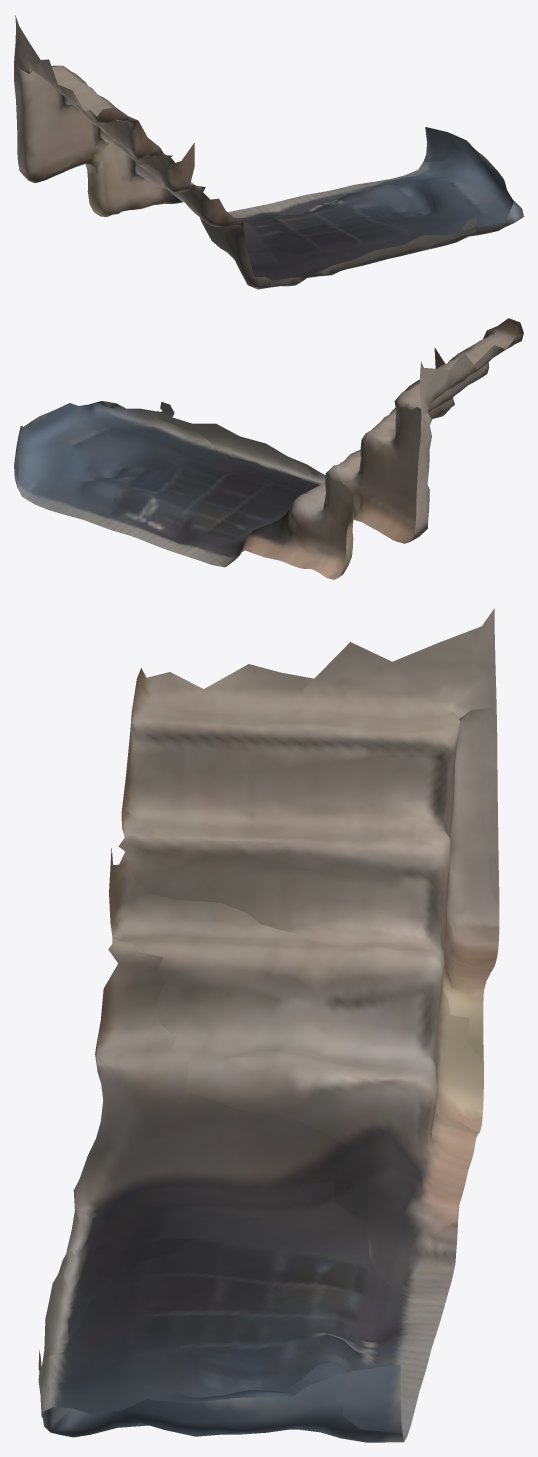
Rendered from 서제외부문.fbx.
3 views of the same model, one above another, from view 1: azimuth 30°, elevation 25°; view 2: azimuth 150°, elevation 25°; view 3: azimuth 270°, elevation 25° (orthographic). The views are drawn at different scales.
Parts seen in each view (by area): view 1: Untitled; view 2: Untitled; view 3: Untitled.
Part boxes in pixels (x1,y1,x2,y2): Untitled: (14,15,523,289); Untitled: (14,318,523,579); Untitled: (38,608,499,1442).
Bounding box in the file's own units: 83.99 × 46.83 × 40.36.
Materials: 1 (1 with a texture image).
